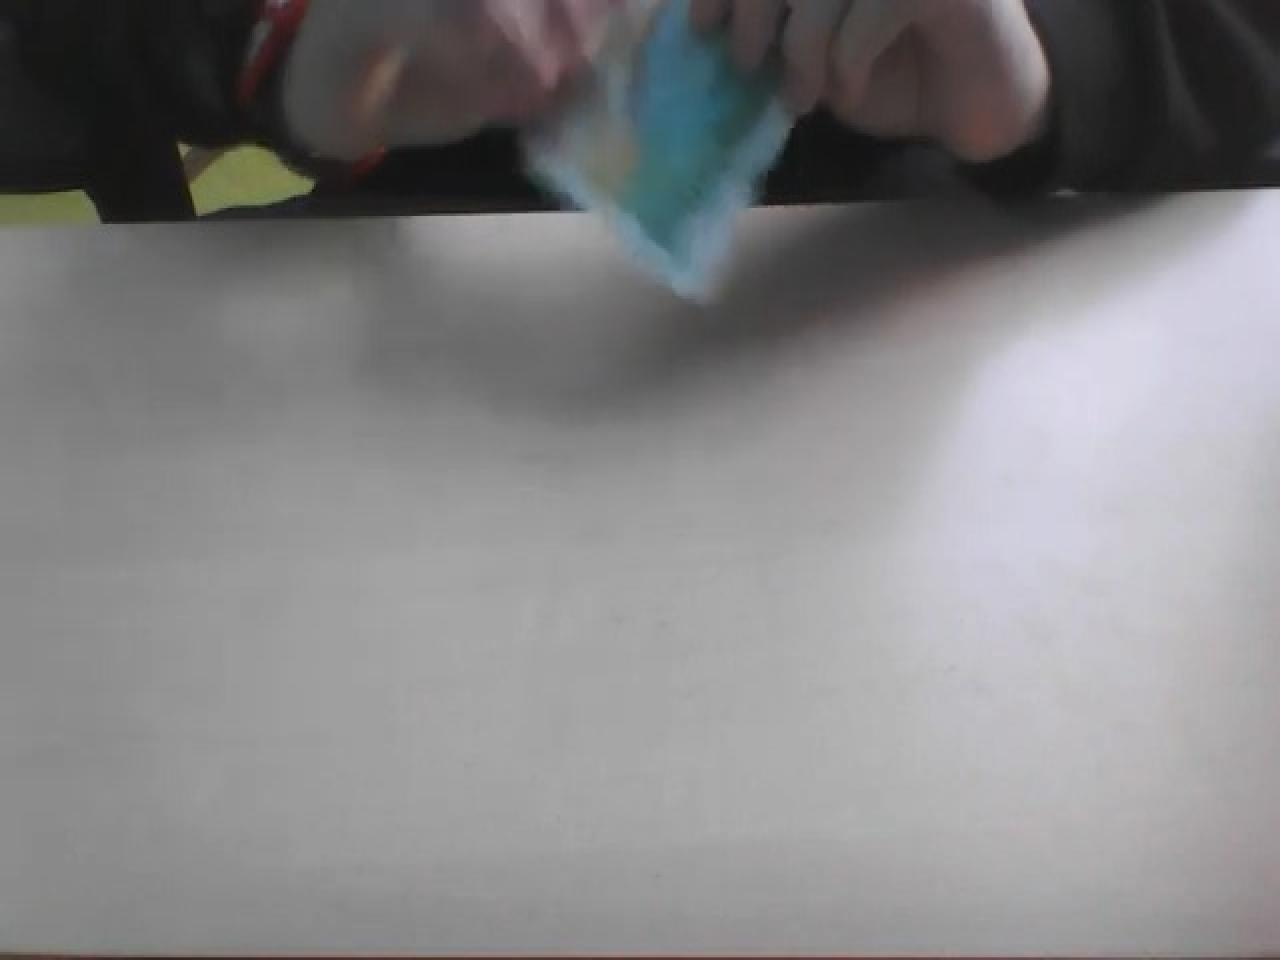100leva: (6, 0, 1276, 245), (524, 0, 800, 304)
